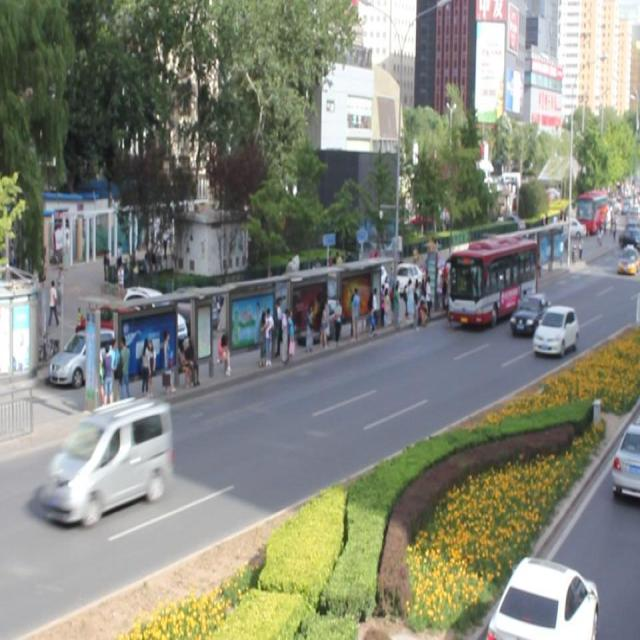car: (532, 304, 578, 354), (509, 292, 550, 336)
truck: (44, 396, 170, 524)
van: (448, 234, 536, 328)
